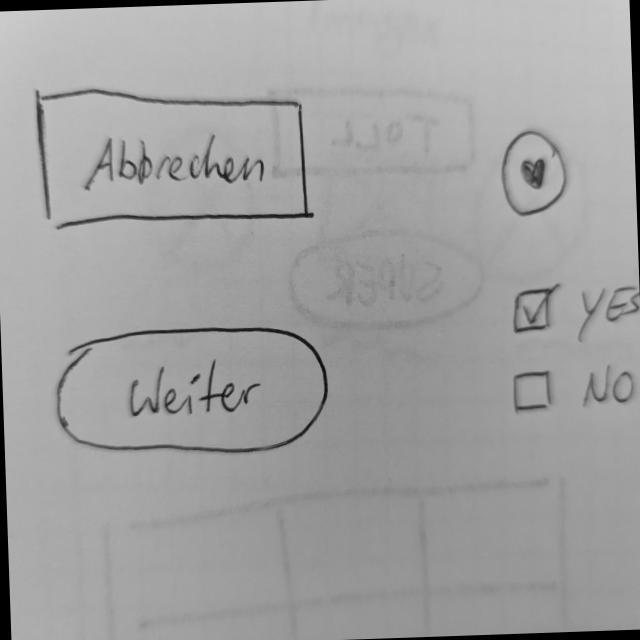button: (30, 79, 315, 238), (55, 320, 335, 464)
checkbox: (510, 277, 640, 344), (510, 358, 639, 420)
icon-button: (498, 126, 572, 222)
